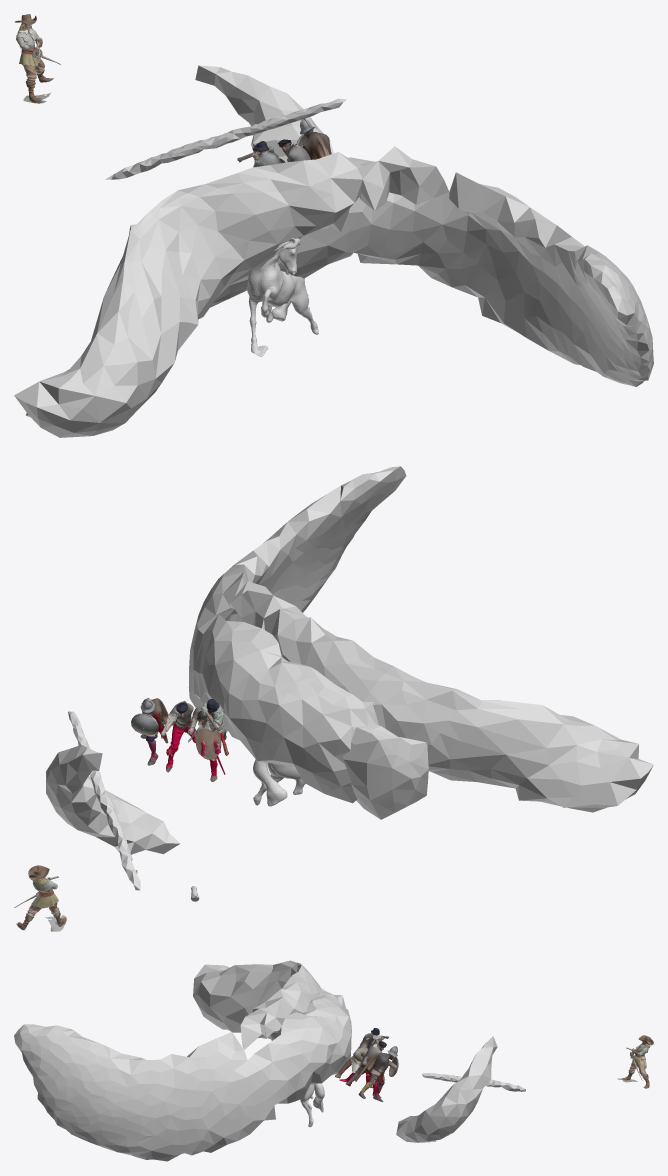
3 views of the same model, one above another, from view 1: azimuth 30°, elevation 25°; view 2: azimuth 150°, elevation 25°; view 3: azimuth 270°, elevation 25° (orthographic). The views are drawn at different scales.
Bounding box in the file's own units: 17.27 × 6.54 × 28.73.
